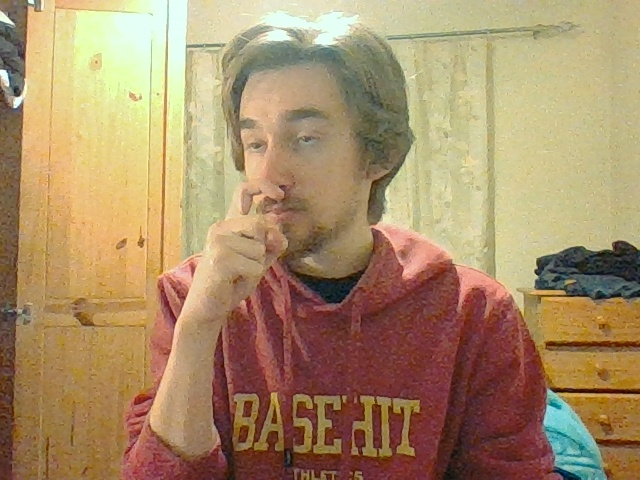sister: (202, 178, 288, 300)
